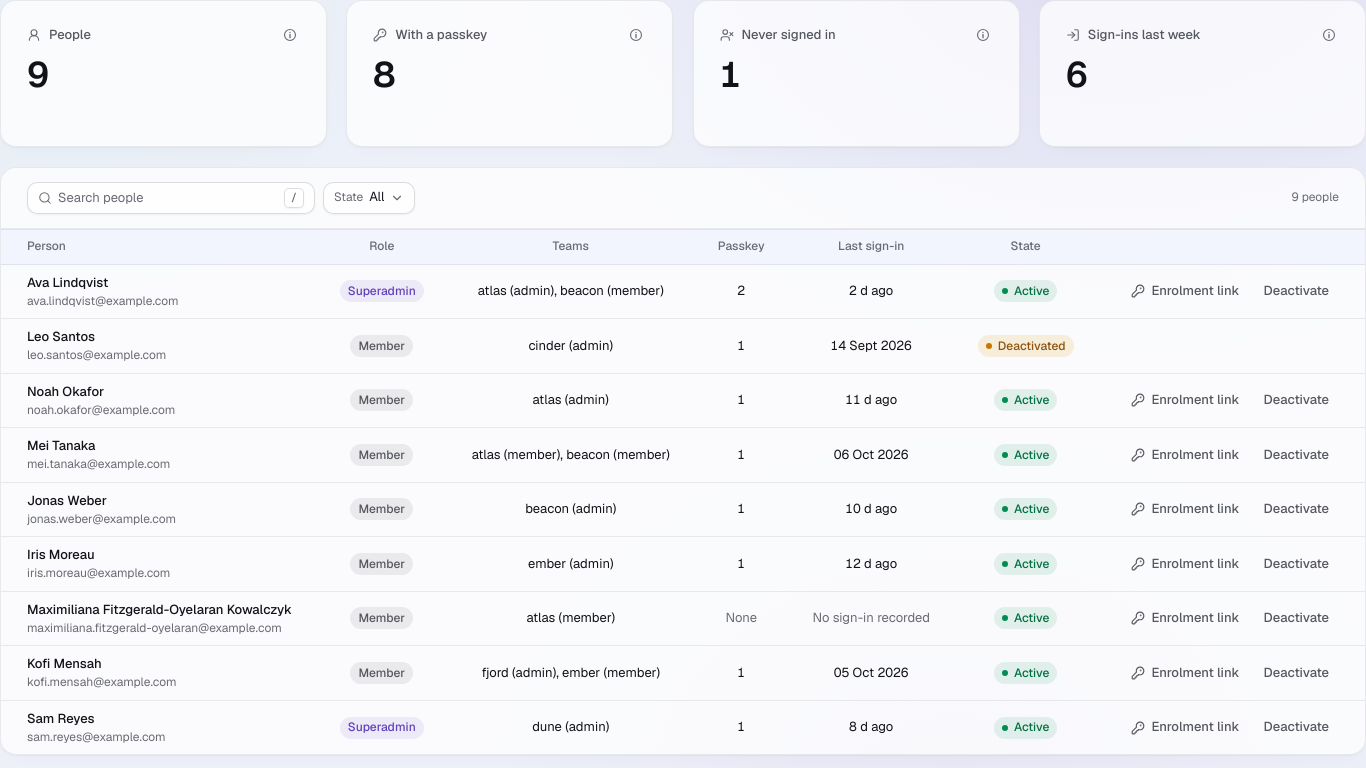
Scenario: a secret shown once stays out of the page text the assistant reads › draws an enrolment link issued on People in a dialog outside the scroll region, marked omit
What coordinates should you click on to do the following:
click the button "Enrolment link" in the row of "Ava Lindqvist"
I would click on:
 (1185, 291)
Its box is 1121,275 -> 1249,307.
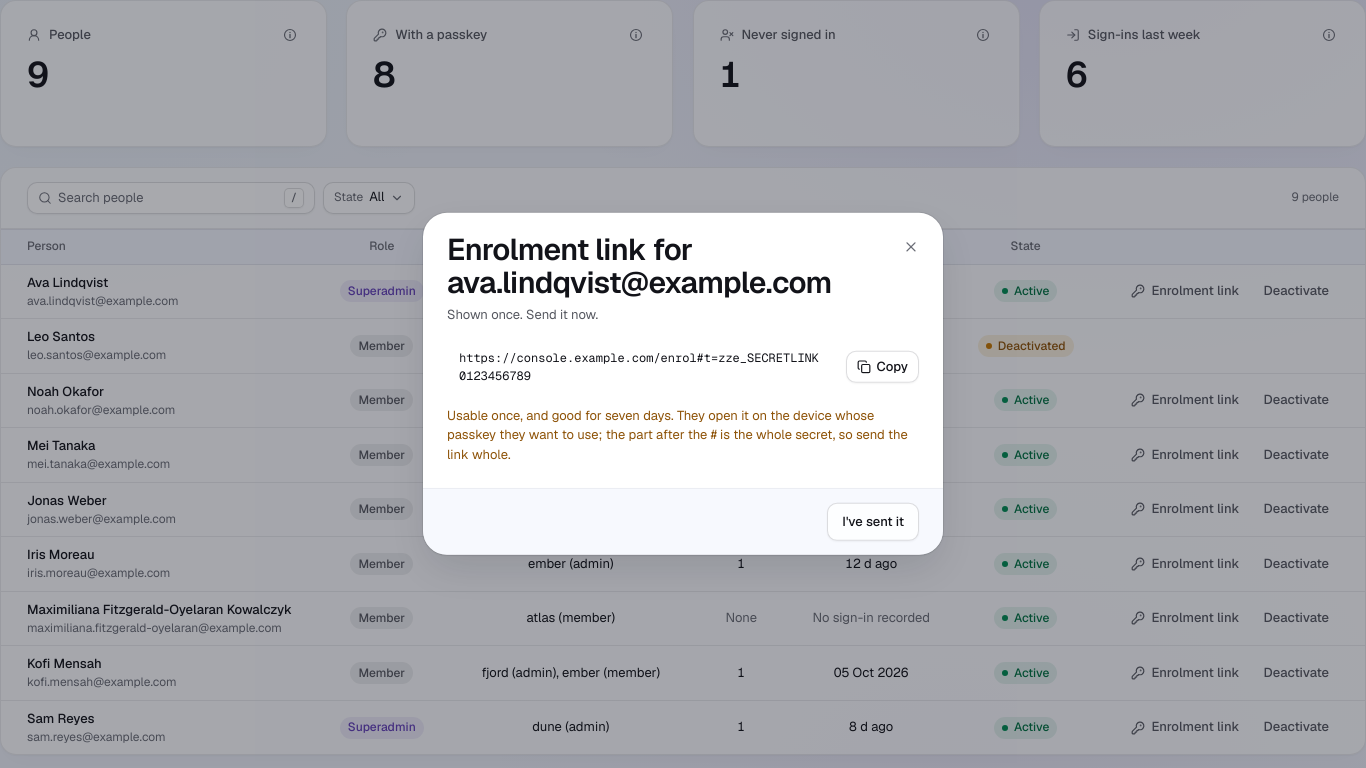
Expected: the text "https://console.example.com/enrol#t=zze_SECRETLINK0123456789" is not shown
Now the text "https://console.example.com/enrol#t=zze_SECRETLINK0123456789" is shown, box 447,340 -> 838,394
